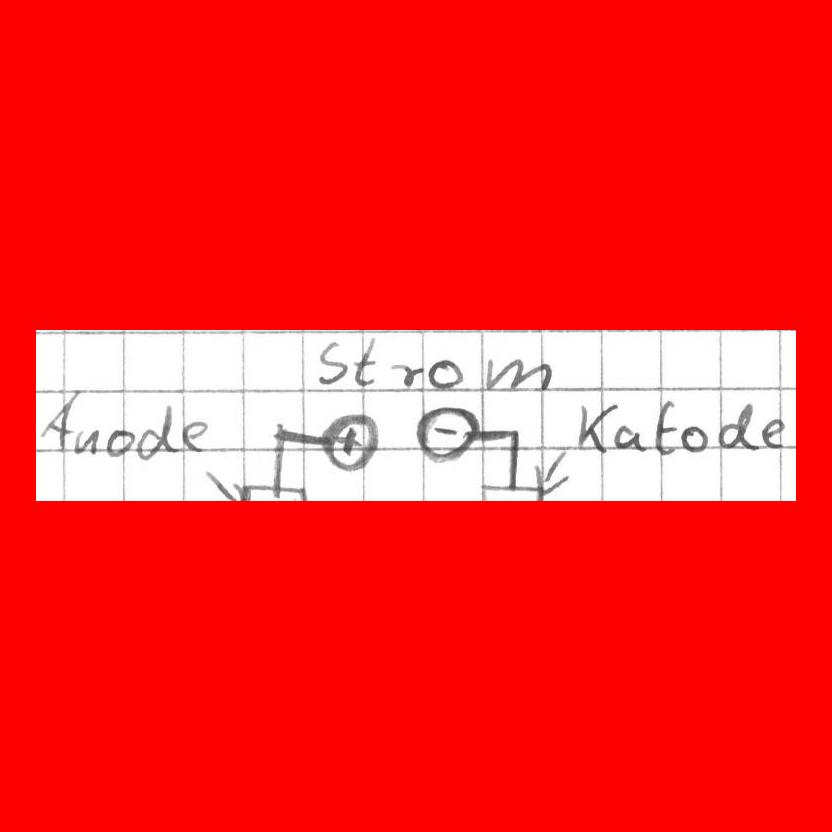Char: (135, 401, 181, 462), (39, 388, 79, 452), (486, 355, 554, 392), (574, 401, 618, 455), (717, 401, 759, 452), (350, 334, 382, 389), (317, 340, 351, 386), (653, 400, 679, 456), (427, 358, 470, 389), (179, 417, 211, 453), (759, 416, 792, 449), (105, 426, 136, 458), (614, 423, 647, 453), (390, 361, 425, 388), (679, 423, 709, 454), (69, 428, 101, 456)
